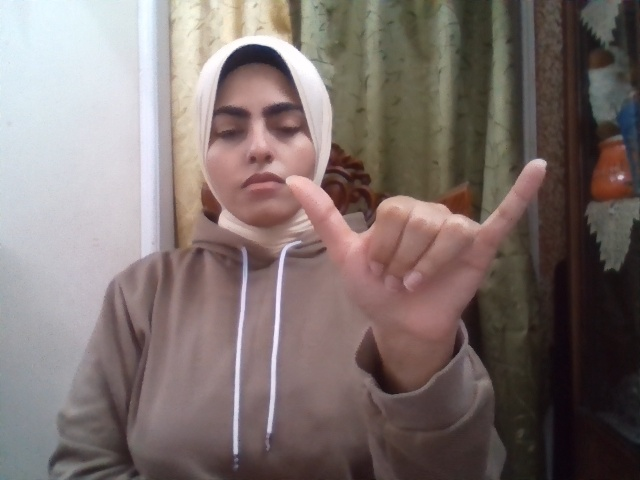Y: (287, 158, 546, 346)
